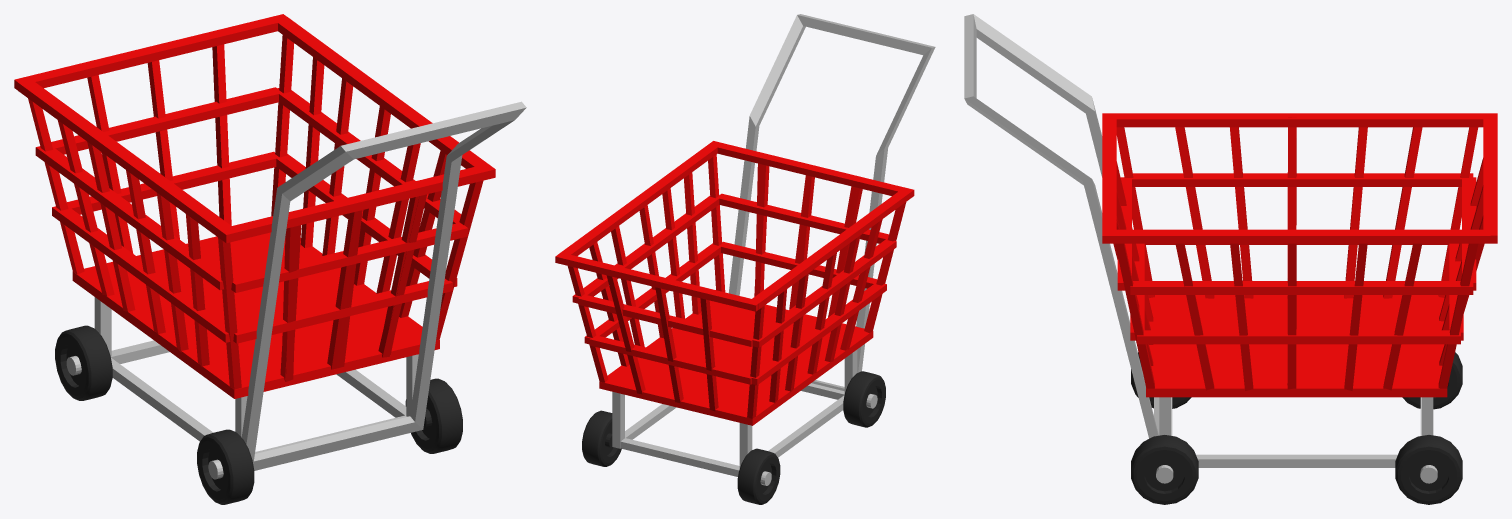
The model's file is Cart.gltf.
The picture shows the model from 3 angles, left to right: view 1: azimuth 30°, elevation 25°; view 2: azimuth 150°, elevation 25°; view 3: azimuth 270°, elevation 25°; orthographic projection. The views are drawn at different scales.
Parts seen in each view (by area): view 1: node-0; view 2: node-0; view 3: node-0.
Boxes of the visible parts, x1=… form: node-0: x1=14, y1=14, x2=526, y2=504; node-0: x1=555, y1=14, x2=935, y2=504; node-0: x1=964, y1=14, x2=1497, y2=504.
Bounding box in the file's own units: 253747 × 384220 × 467060.
